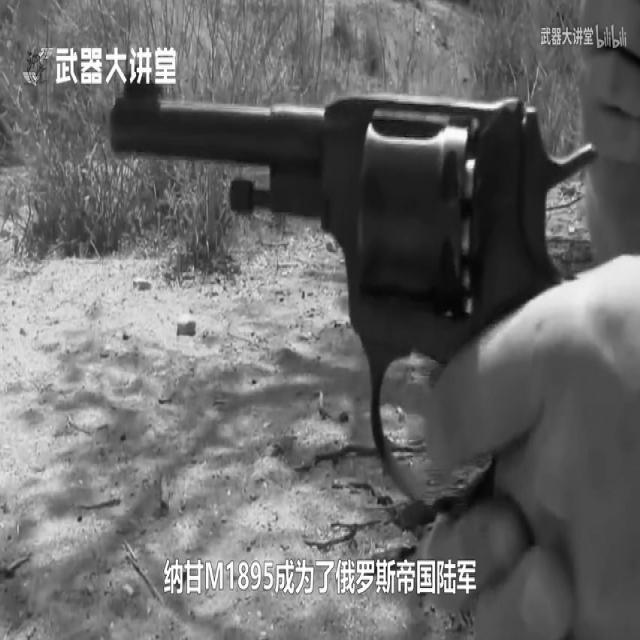Short-Gun: (39, 0, 626, 640)
